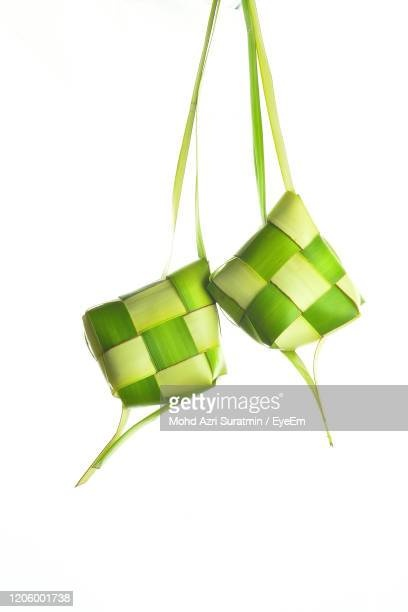ketupat: (209, 190, 363, 351), (80, 257, 230, 409)
